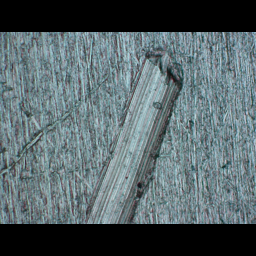d: (81, 41, 187, 224)
